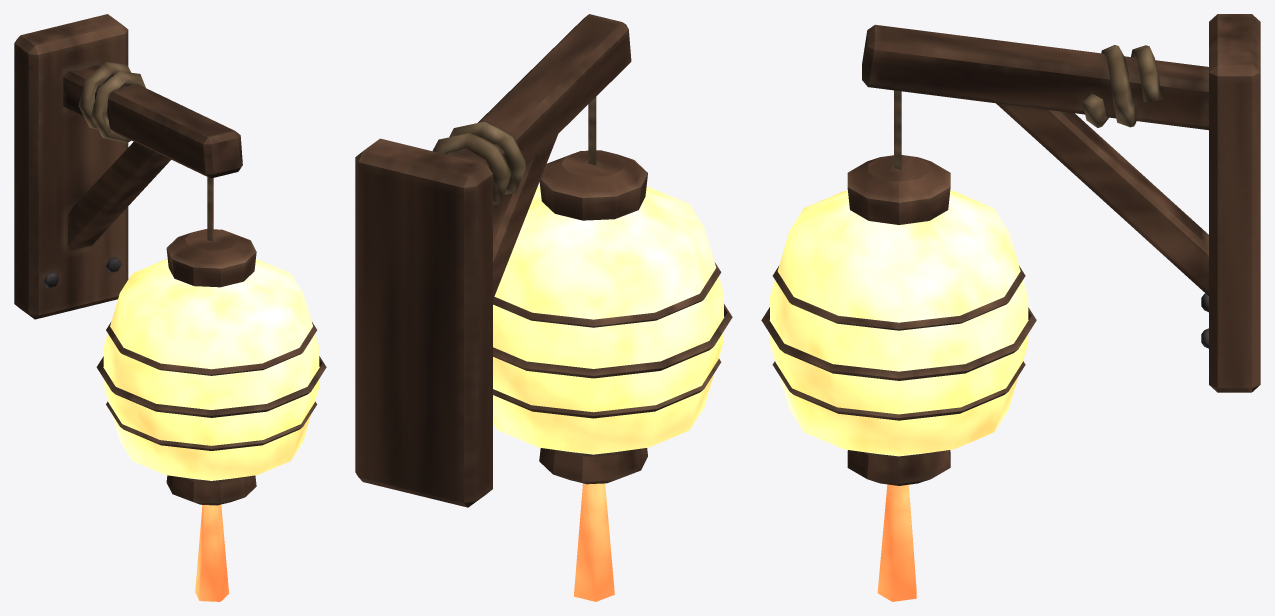
Rendered from StiltVillage_Light.fbx.
The picture shows the model from 3 angles, left to right: view 1: azimuth 30°, elevation 25°; view 2: azimuth 150°, elevation 25°; view 3: azimuth 270°, elevation 25°; orthographic projection. The views are drawn at different scales.
Visible parts, largest first — view 1: StiltVillage_Light; view 2: StiltVillage_Light; view 3: StiltVillage_Light.
Boxes of the visible parts, left/top/right/bottom form: StiltVillage_Light: left=14, top=14, right=326, bottom=601; StiltVillage_Light: left=355, top=14, right=732, bottom=601; StiltVillage_Light: left=761, top=14, right=1260, bottom=601.
Bounding box in the file's own units: 0.432 × 0.9701 × 0.783.
